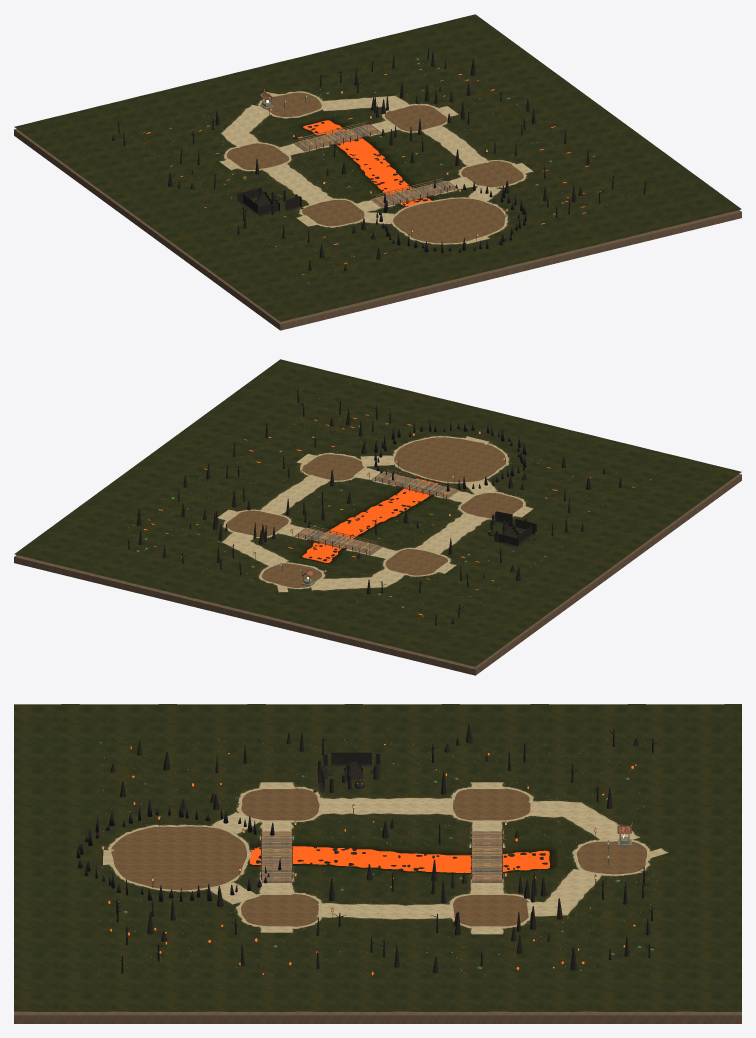
File: rebirth-rahu.glb
The picture shows the model from 3 angles, top to bottom: view 1: azimuth 30°, elevation 25°; view 2: azimuth 150°, elevation 25°; view 3: azimuth 270°, elevation 25°; orthographic projection. The views are drawn at different scales.
Parts seen in each view (by area): view 1: Ground - varied meadow | meadow_rb, Tracks - worn earth | path_rb, Soil foundation | earth, Tracks - worn earth | path, Feathered road shoulders | path_edge, Basalt spires | basalt, Lava flow | lava, Crater obsidian shards | obsidian, Bridge / separate deck boards | wood_light, Bridge / separate deck boards | wood_weathered, Bridge / separate deck boards | plank, Asura temple walls | basalt (+2 smaller); view 2: Ground - varied meadow | meadow_rb, Tracks - worn earth | path_rb, Soil foundation | earth, Tracks - worn earth | path, Feathered road shoulders | path_edge, Lava flow | lava, Basalt spires | basalt, Crater obsidian shards | obsidian, Bridge / separate deck boards | wood_light, Bridge / separate deck boards | wood_weathered, Asura temple walls | basalt, Bridge / separate deck boards | plank (+2 smaller); view 3: Ground - varied meadow | meadow_rb, Tracks - worn earth | path_rb, Tracks - worn earth | path, Soil foundation | earth, Feathered road shoulders | path_edge, Lava flow | lava, Basalt spires | basalt, Bridge / separate deck boards | wood_light, Crater obsidian shards | obsidian, Bridge / separate deck boards | wood_weathered, Bridge / separate deck boards | plank, Charred dead trees | obsidian (+2 smaller).
Boxes of the visible parts, x1,y1,x2,y2 form: Ground - varied meadow | meadow_rb: (14,14,741,321); Tracks - worn earth | path_rb: (226,92,523,243); Soil foundation | earth: (14,129,741,330); Tracks - worn earth | path: (220,92,531,243); Feathered road shoulders | path_edge: (219,91,533,244); Basalt spires | basalt: (112,52,589,271); Lava flow | lava: (303,120,431,206); Crater obsidian shards | obsidian: (376,179,526,253); Bridge / separate deck boards | wood_light: (295,124,458,207); Bridge / separate deck boards | wood_weathered: (294,124,457,206); Bridge / separate deck boards | plank: (298,124,456,207); Asura temple walls | basalt: (237,188,301,216); Ground - varied meadow | meadow_rb: (14,359,741,666); Tracks - worn earth | path_rb: (226,437,522,587); Soil foundation | earth: (14,474,741,675); Tracks - worn earth | path: (218,436,532,591); Feathered road shoulders | path_edge: (217,435,533,592); Lava flow | lava: (302,478,438,562); Basalt spires | basalt: (136,409,622,624); Crater obsidian shards | obsidian: (374,420,526,491); Bridge / separate deck boards | wood_light: (294,471,457,554); Bridge / separate deck boards | wood_weathered: (295,471,456,555); Asura temple walls | basalt: (493,511,536,547); Bridge / separate deck boards | plank: (297,471,458,553); Ground - varied meadow | meadow_rb: (14,704,741,1011); Tracks - worn earth | path_rb: (111,788,647,926); Tracks - worn earth | path: (103,782,665,934); Soil foundation | earth: (14,837,741,1023); Feathered road shoulders | path_edge: (103,782,668,934); Lava flow | lava: (249,846,550,872); Basalt spires | basalt: (110,724,650,973); Bridge / separate deck boards | wood_light: (261,831,502,882); Crater obsidian shards | obsidian: (76,799,281,901); Bridge / separate deck boards | wood_weathered: (261,831,502,881); Bridge / separate deck boards | plank: (261,831,502,880); Charred dead trees | obsidian: (111,728,659,973).
Bounding box in the file's own units: 180 × 9.51 × 180.
Materials: 35 (31 with a texture image).
